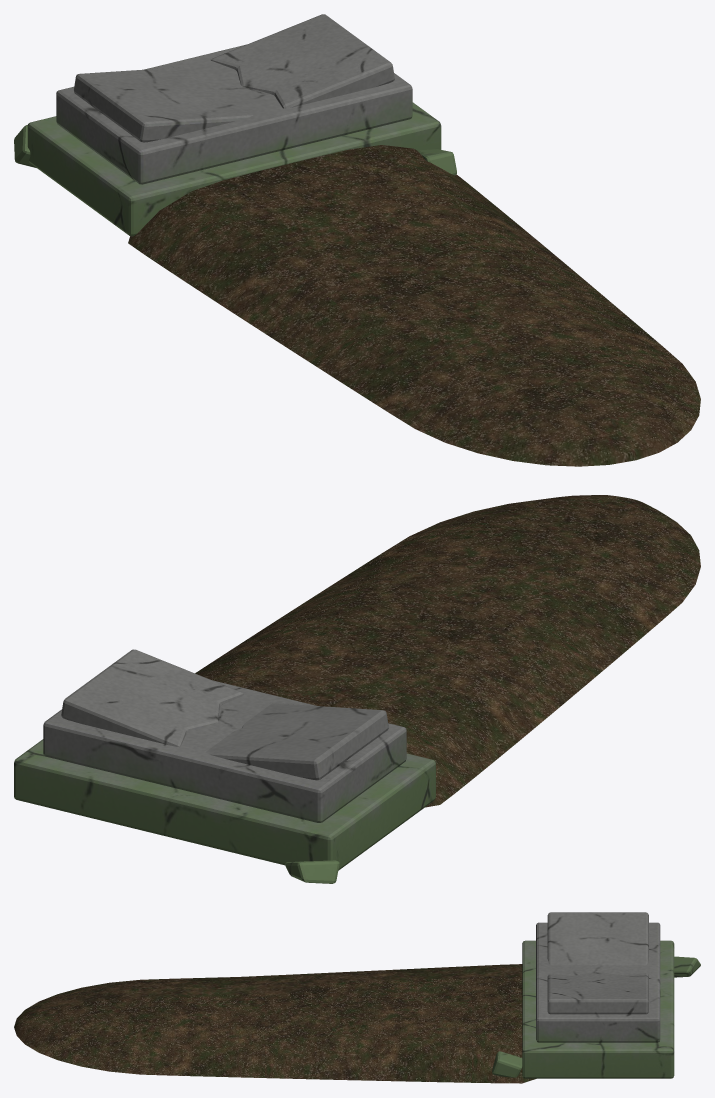
File: gravestone_slab_broken_a.glb
3 views of the same model, one above another, from view 1: azimuth 30°, elevation 25°; view 2: azimuth 150°, elevation 25°; view 3: azimuth 270°, elevation 25° (orthographic). The views are drawn at different scales.
Visible parts, largest first — view 1: gravestone_slab_broken_a; view 2: gravestone_slab_broken_a; view 3: gravestone_slab_broken_a.
Boxes of the visible parts, x1,y1,x2,y2 form: gravestone_slab_broken_a: [14, 14, 700, 466]; gravestone_slab_broken_a: [14, 495, 700, 883]; gravestone_slab_broken_a: [14, 912, 700, 1083].
Bounding box in the file's own units: 1.18 × 0.3547 × 2.99.
Materials: 2 (2 with a texture image).
